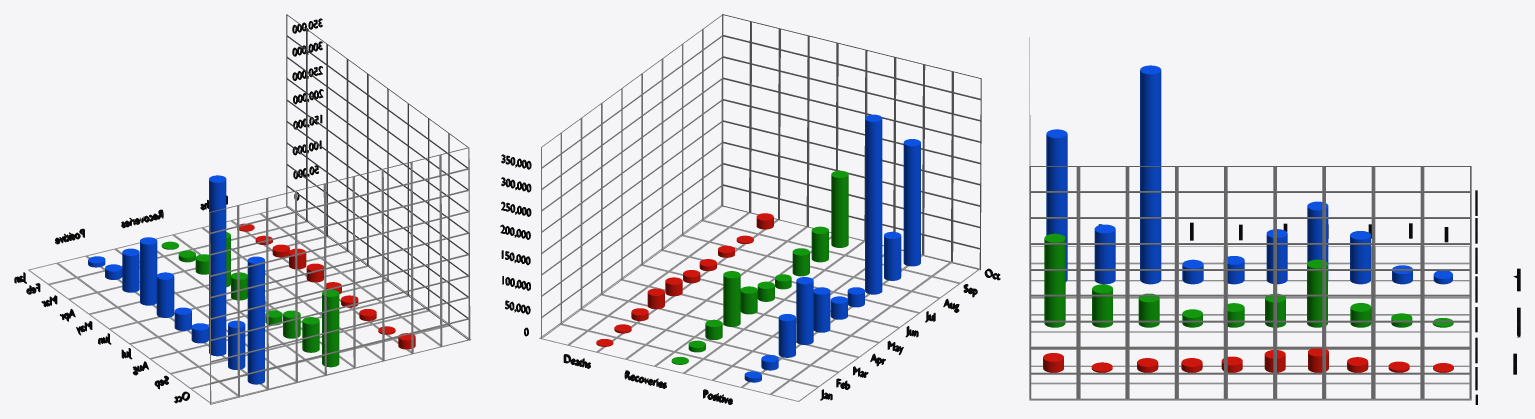
File: without-light-v1-bar-graph (1).fbx
The picture shows the model from 3 angles, left to right: view 1: azimuth 30°, elevation 25°; view 2: azimuth 150°, elevation 25°; view 3: azimuth 270°, elevation 25°; orthographic projection. The views are drawn at different scales.
Visible parts, largest first — view 1: JUN.016; view 2: JUN.016; view 3: JUN.016.
Boxes of the visible parts, bbox=[...] form: JUN.016: bbox=[14, 14, 471, 404]; JUN.016: bbox=[500, 14, 1000, 404]; JUN.016: bbox=[1029, 37, 1520, 404].
Size of the model in its own units: 4294 by 2466 by 4643.
